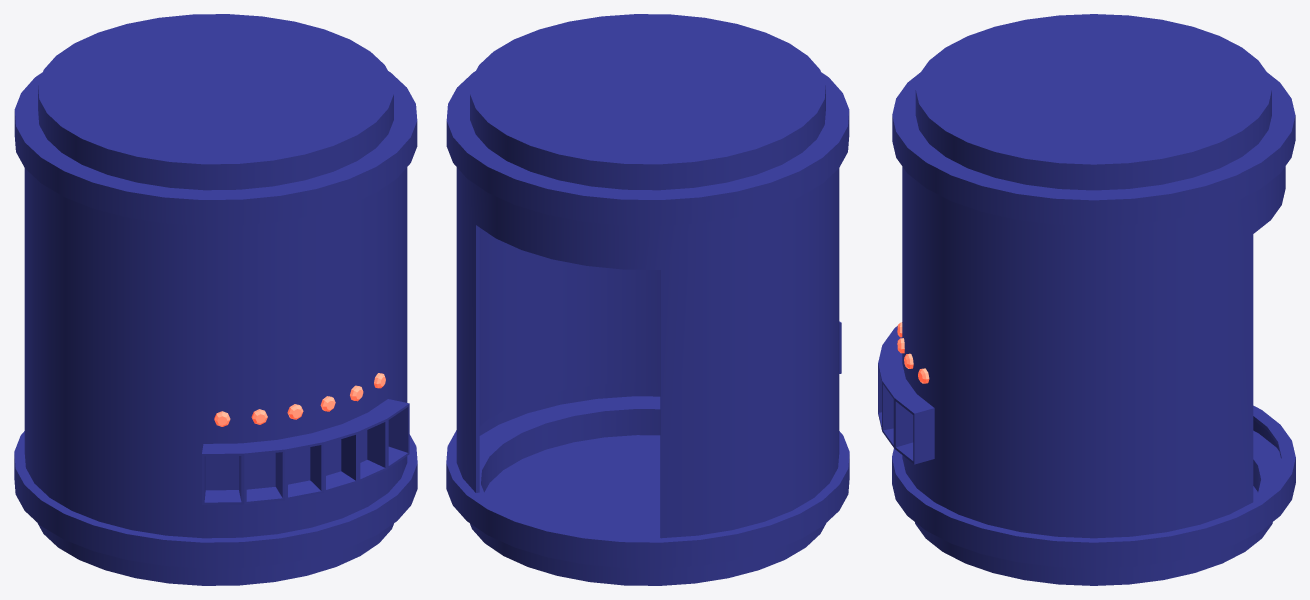
File: lift(1).fbx
3 views of the same model, side by side, from view 1: azimuth 30°, elevation 25°; view 2: azimuth 150°, elevation 25°; view 3: azimuth 270°, elevation 25° (orthographic).
Parts seen in each view (by area): view 1: lift2, light; view 2: lift2; view 3: lift2.
Part boxes in pixels (x1=…): lift2: x1=14, y1=14, x2=417, y2=585; light: x1=214, y1=373, x2=385, y2=426; lift2: x1=446, y1=14, x2=849, y2=585; lift2: x1=878, y1=14, x2=1295, y2=585.
Size of the model in its own units: 708 by 811 by 732.
